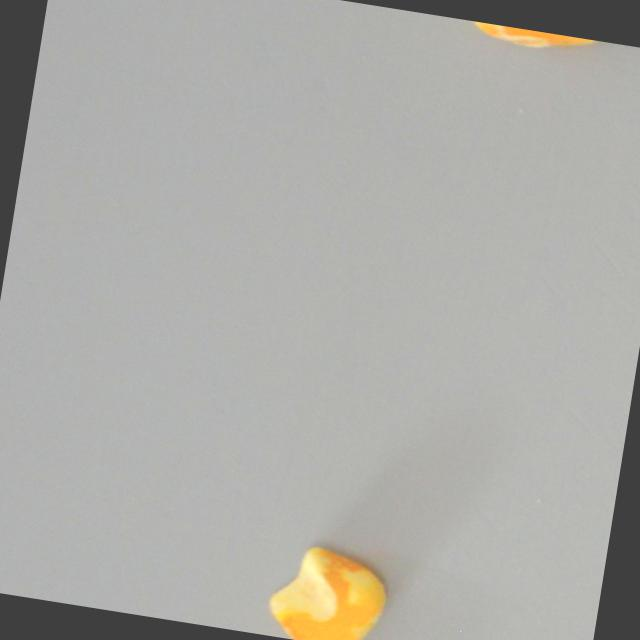dañado: (261, 535, 397, 640), (457, 18, 609, 71)
